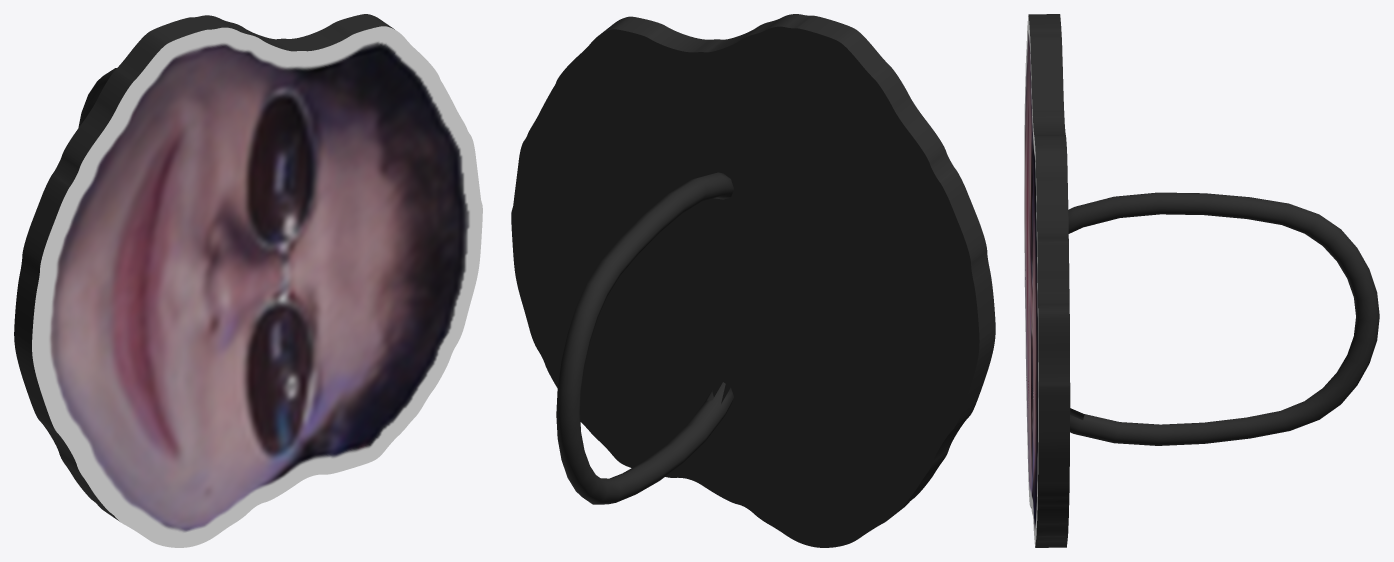
File: ToadyFemale.fbx
3 renders of one model, left to right at view 1: azimuth 30°, elevation 25°; view 2: azimuth 150°, elevation 25°; view 3: azimuth 270°, elevation 25°, orthographic. The views are drawn at different scales.
Visible parts, largest first — view 1: Curve; view 2: Curve; view 3: Curve.
Boxes of the visible parts, x1,y1,x2,y2 form: Curve: (14,14,482,547); Curve: (511,14,995,547); Curve: (1024,14,1379,547).
Size of the model in its own units: 0.1802 by 0.1923 by 0.1299.
